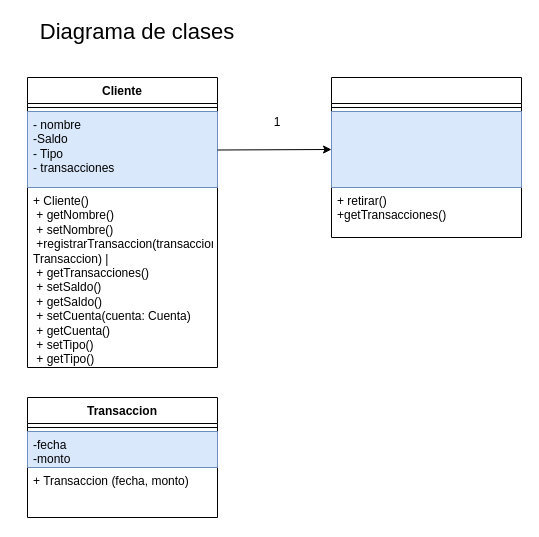
Image size: 539x537. Some labels were removed from this diagram. The shapes that lost their labels are listed below. From the top down, each one's box as (x1, y1, x2, y2) in pixels, then its label:
(330, 110, 522, 188): - banco -Saldo - Cliente - tipo
(330, 76, 522, 238): Cuenta
